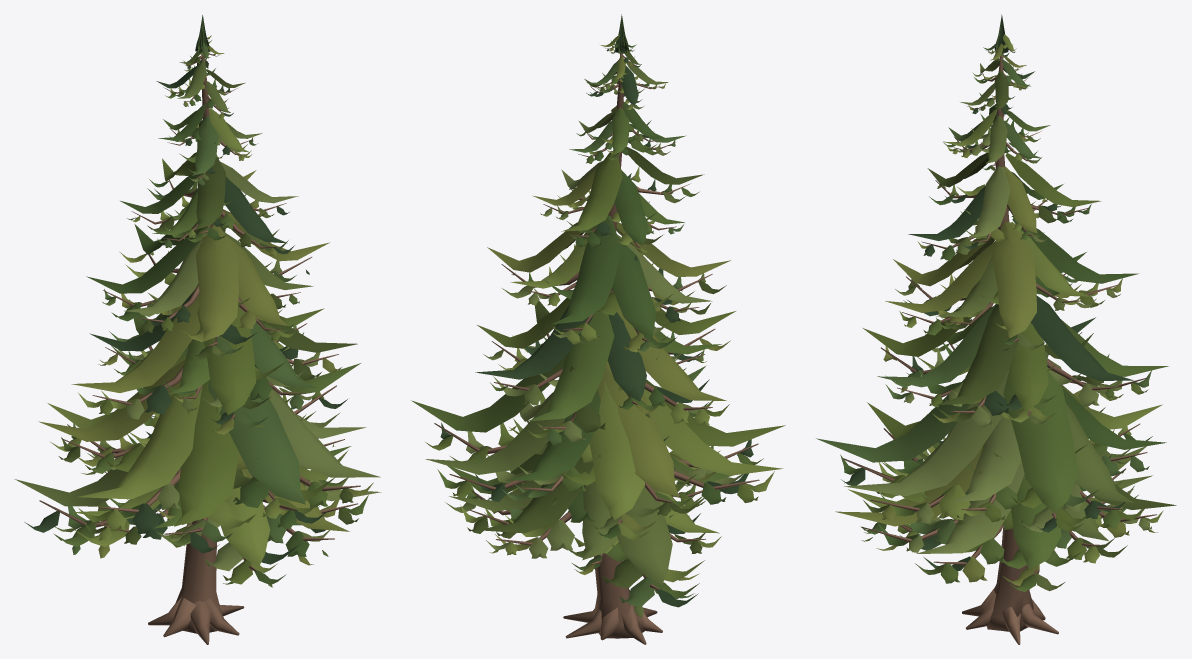
Rendered from wsc-prop-046-conifer-tree-far.glb.
3 views of the same model, side by side, from view 1: azimuth 30°, elevation 25°; view 2: azimuth 150°, elevation 25°; view 3: azimuth 270°, elevation 25° (orthographic).
Visible parts, largest first — view 1: Distant · 02 Living evergreen sprays, Distant · 01 Fluted trunk and branch wood; view 2: Distant · 02 Living evergreen sprays, Distant · 01 Fluted trunk and branch wood; view 3: Distant · 02 Living evergreen sprays, Distant · 01 Fluted trunk and branch wood.
Part boxes in pixels (x1,y1,x2,y2): Distant · 02 Living evergreen sprays: [14, 15, 381, 587]; Distant · 01 Fluted trunk and branch wood: [39, 40, 360, 644]; Distant · 02 Living evergreen sprays: [411, 14, 785, 617]; Distant · 01 Fluted trunk and branch wood: [434, 39, 759, 644]; Distant · 02 Living evergreen sprays: [816, 14, 1176, 591]; Distant · 01 Fluted trunk and branch wood: [843, 47, 1157, 644].
Bounding box in the file's own units: 3.44 × 6.11 × 3.3.
